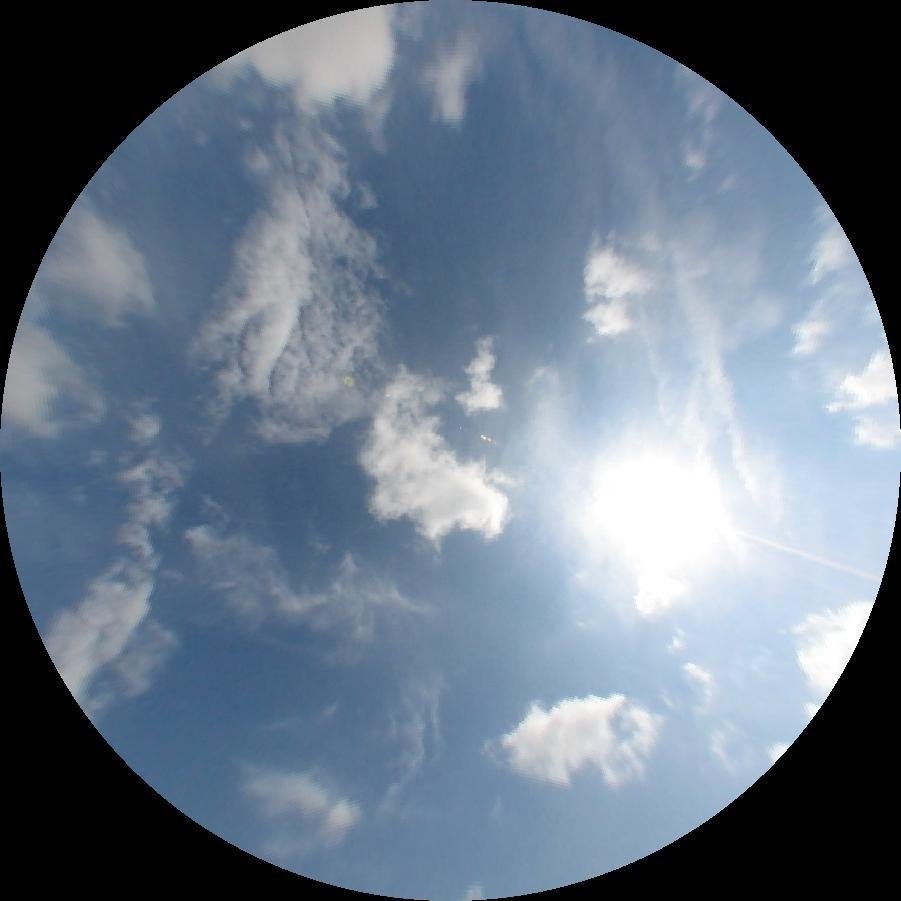parasite: (733, 527, 884, 585)
sun: (605, 459, 721, 570)
